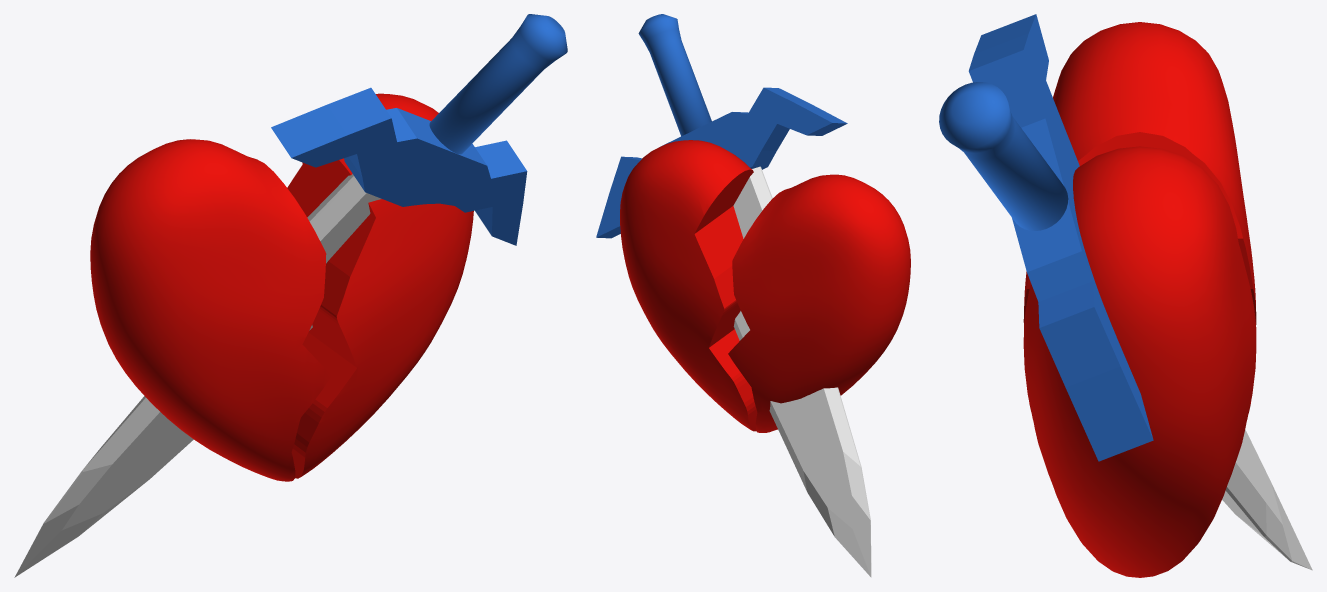
File: krkkalpklc.fbx
3 renders of one model, left to right at view 1: azimuth 30°, elevation 25°; view 2: azimuth 150°, elevation 25°; view 3: azimuth 270°, elevation 25°, orthographic. The views are drawn at different scales.
Visible parts, largest first — view 1: kalpyaralı, kılıc; view 2: kalpyaralı, kılıc; view 3: kalpyaralı, kılıc.
Part boxes in pixels (box(x1,y1,x2,y2)): kalpyaralı: box(90, 93, 473, 481); kılıc: box(14, 14, 567, 577); kalpyaralı: box(620, 140, 910, 432); kılıc: box(596, 14, 871, 577); kalpyaralı: box(1023, 22, 1256, 577); kılıc: box(939, 14, 1312, 570).
Size of the model in its own units: 7.18 by 8.9 by 4.04.
